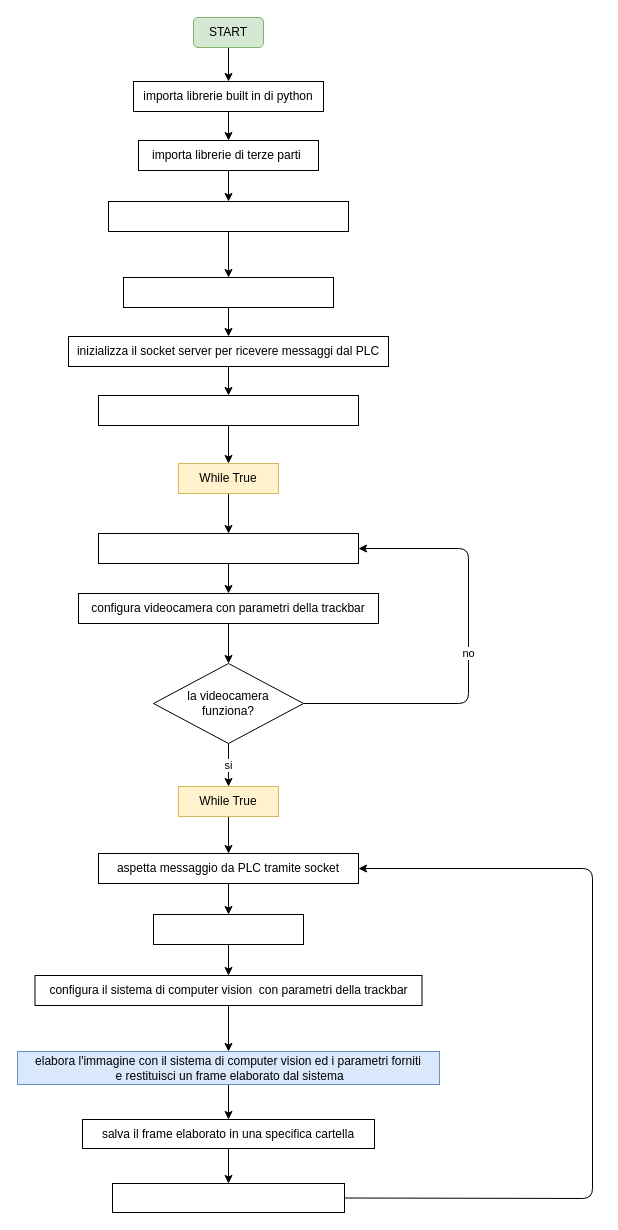
The diagram is 618 pixels wide and 1230 high, and some of its shapes have lost their labels. The shapes that lost their labels are listed below. From the top down, each one's centre as x and y in pixels, then its label:
At (x=228, y=216): "importa parametri e funzioni del progetto".
At (x=228, y=292): "estrai parametri dalla ricetta default".
At (x=228, y=410): "inizializza videocamera e parametri di default".
At (x=228, y=548): "inizializza trackbar e parametri di default".
At (x=228, y=929): "scatta un immagine".
At (x=228, y=1197): "visualizza il frame elaborato a schermo".
